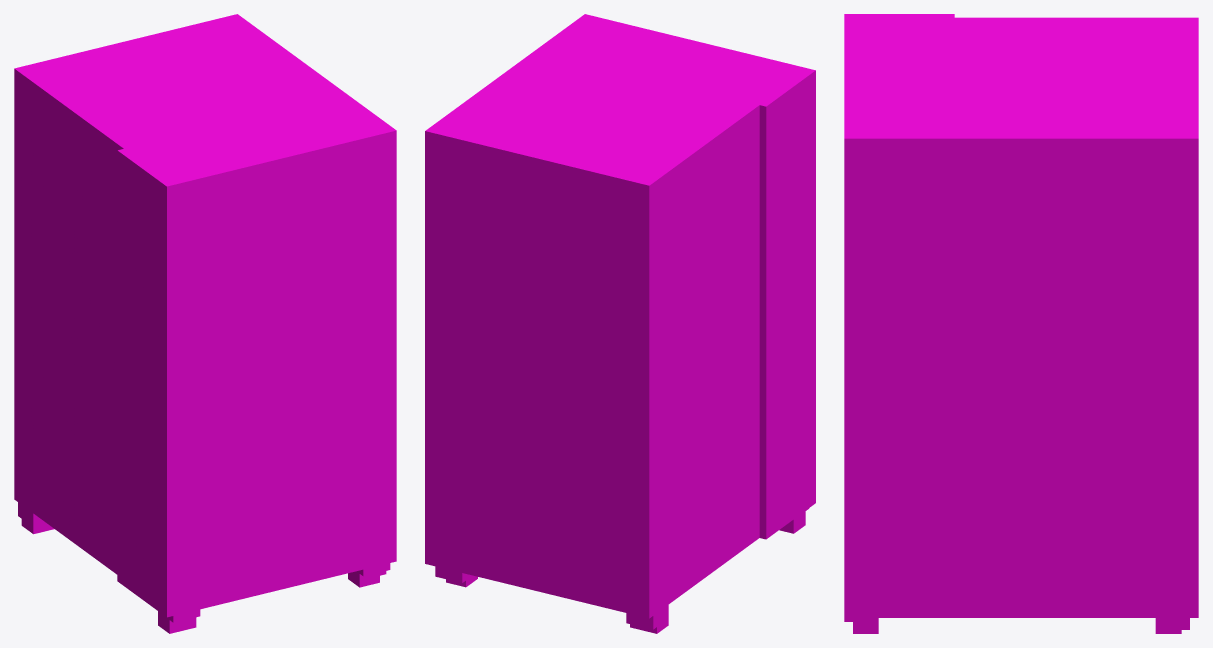
Rendered from psx_-_vending_machine.glb.
The picture shows the model from 3 angles, left to right: view 1: azimuth 30°, elevation 25°; view 2: azimuth 150°, elevation 25°; view 3: azimuth 270°, elevation 25°; orthographic projection. The views are drawn at different scales.
Parts seen in each view (by area): view 1: col_wall_06, col_roof_19, col_wall_21, col_wall_36, col_roof_54, col_wall_05, col_roof_15, col_wall_20, col_wall_35, col_roof_07, col_wall_16, col_wall_01 (+52 smaller); view 2: col_roof_51, col_roof_08, col_wall_02, col_wall_32, col_wall_17, col_block_05, col_block_21, col_roof_16, col_block_13, col_roof_43, col_wall_01, col_roof_07 (+37 smaller); view 3: col_wall_44, col_wall_43, col_roof_30, col_wall_14, col_wall_45, col_roof_28, col_wall_13, col_roof_29, col_wall_29, col_wall_15, col_wall_28, col_wall_30 (+30 smaller).
Boxes of the visible parts, x1,y1,x2,y2 form: col_wall_06: [258, 483, 344, 594]; col_roof_19: [258, 213, 344, 324]; col_wall_21: [258, 393, 344, 503]; col_wall_36: [258, 303, 344, 413]; col_roof_54: [247, 135, 344, 233]; col_wall_05: [199, 504, 258, 609]; col_roof_15: [199, 234, 258, 338]; col_wall_20: [200, 414, 258, 518]; col_wall_35: [199, 324, 258, 428]; col_roof_07: [117, 220, 173, 346]; col_wall_16: [117, 401, 173, 526]; col_wall_01: [117, 491, 173, 617]; col_roof_51: [477, 107, 612, 234]; col_roof_08: [563, 234, 653, 346]; col_wall_02: [563, 506, 653, 618]; col_wall_32: [563, 326, 653, 437]; col_wall_17: [563, 416, 653, 527]; col_block_05: [477, 485, 563, 597]; col_block_21: [477, 304, 563, 416]; col_roof_16: [477, 214, 563, 325]; col_block_13: [477, 395, 563, 506]; col_roof_43: [563, 162, 653, 255]; col_wall_01: [759, 412, 815, 539]; col_roof_07: [759, 141, 815, 267]; col_wall_44: [970, 316, 1080, 417]; col_wall_43: [1080, 316, 1189, 417]; col_roof_30: [861, 216, 971, 316]; col_wall_14: [970, 517, 1080, 617]; col_wall_45: [861, 316, 971, 417]; col_roof_28: [1080, 216, 1189, 316]; col_wall_13: [1080, 517, 1189, 617]; col_roof_29: [970, 216, 1080, 316]; col_wall_29: [970, 416, 1080, 516]; col_wall_15: [861, 517, 971, 617]; col_wall_28: [1080, 416, 1189, 516]; col_wall_30: [861, 416, 971, 516].
Bounding box in the file's own units: 0.0747 × 0.1402 × 0.0896.
